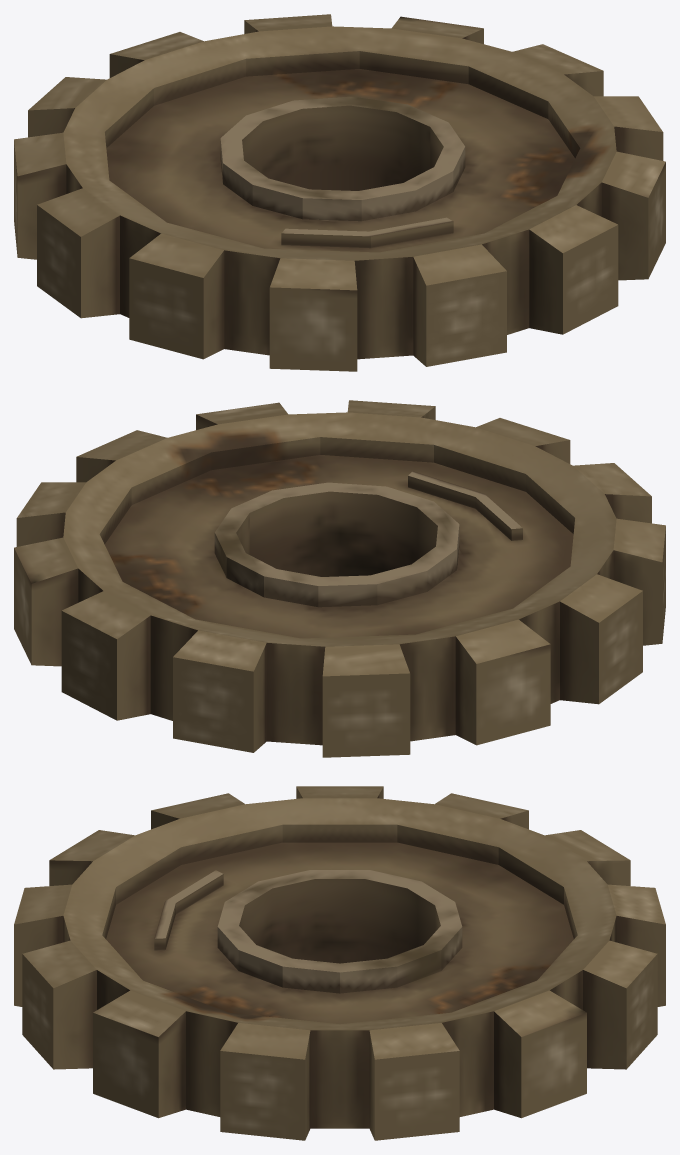
File: SM_Gear.fbx
The picture shows the model from 3 angles, top to bottom: view 1: azimuth 30°, elevation 25°; view 2: azimuth 150°, elevation 25°; view 3: azimuth 270°, elevation 25°; orthographic projection.
Parts seen in each view (by area): view 1: SM_Gear; view 2: SM_Gear; view 3: SM_Gear.
Part boxes in pixels (box(x1,y1,x2,y2)): SM_Gear: box(14, 14, 665, 371); SM_Gear: box(14, 400, 665, 757); SM_Gear: box(14, 786, 665, 1140).
Size of the model in its own units: 12.72 by 2.13 by 12.81.
1 material, 1 textured.
